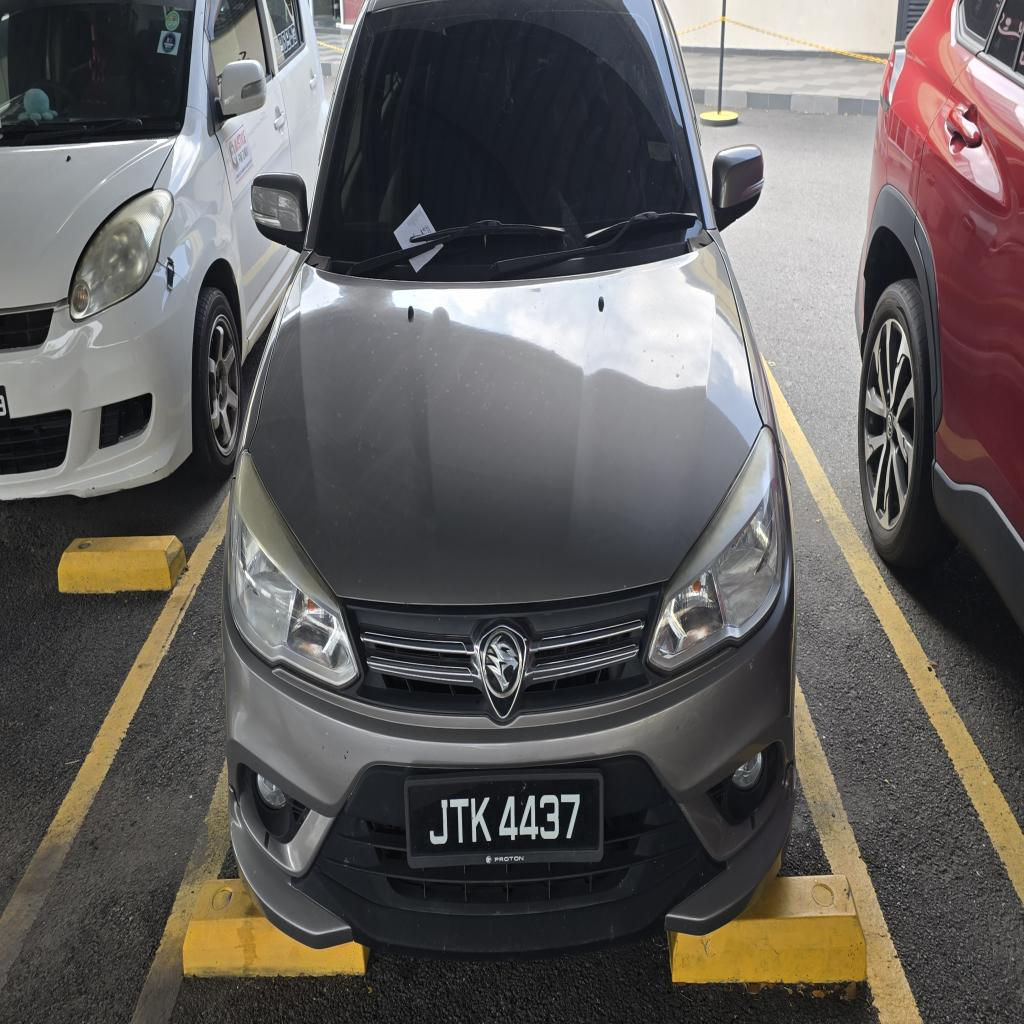car: (223, 0, 794, 958)
car plate: (406, 773, 602, 866)
